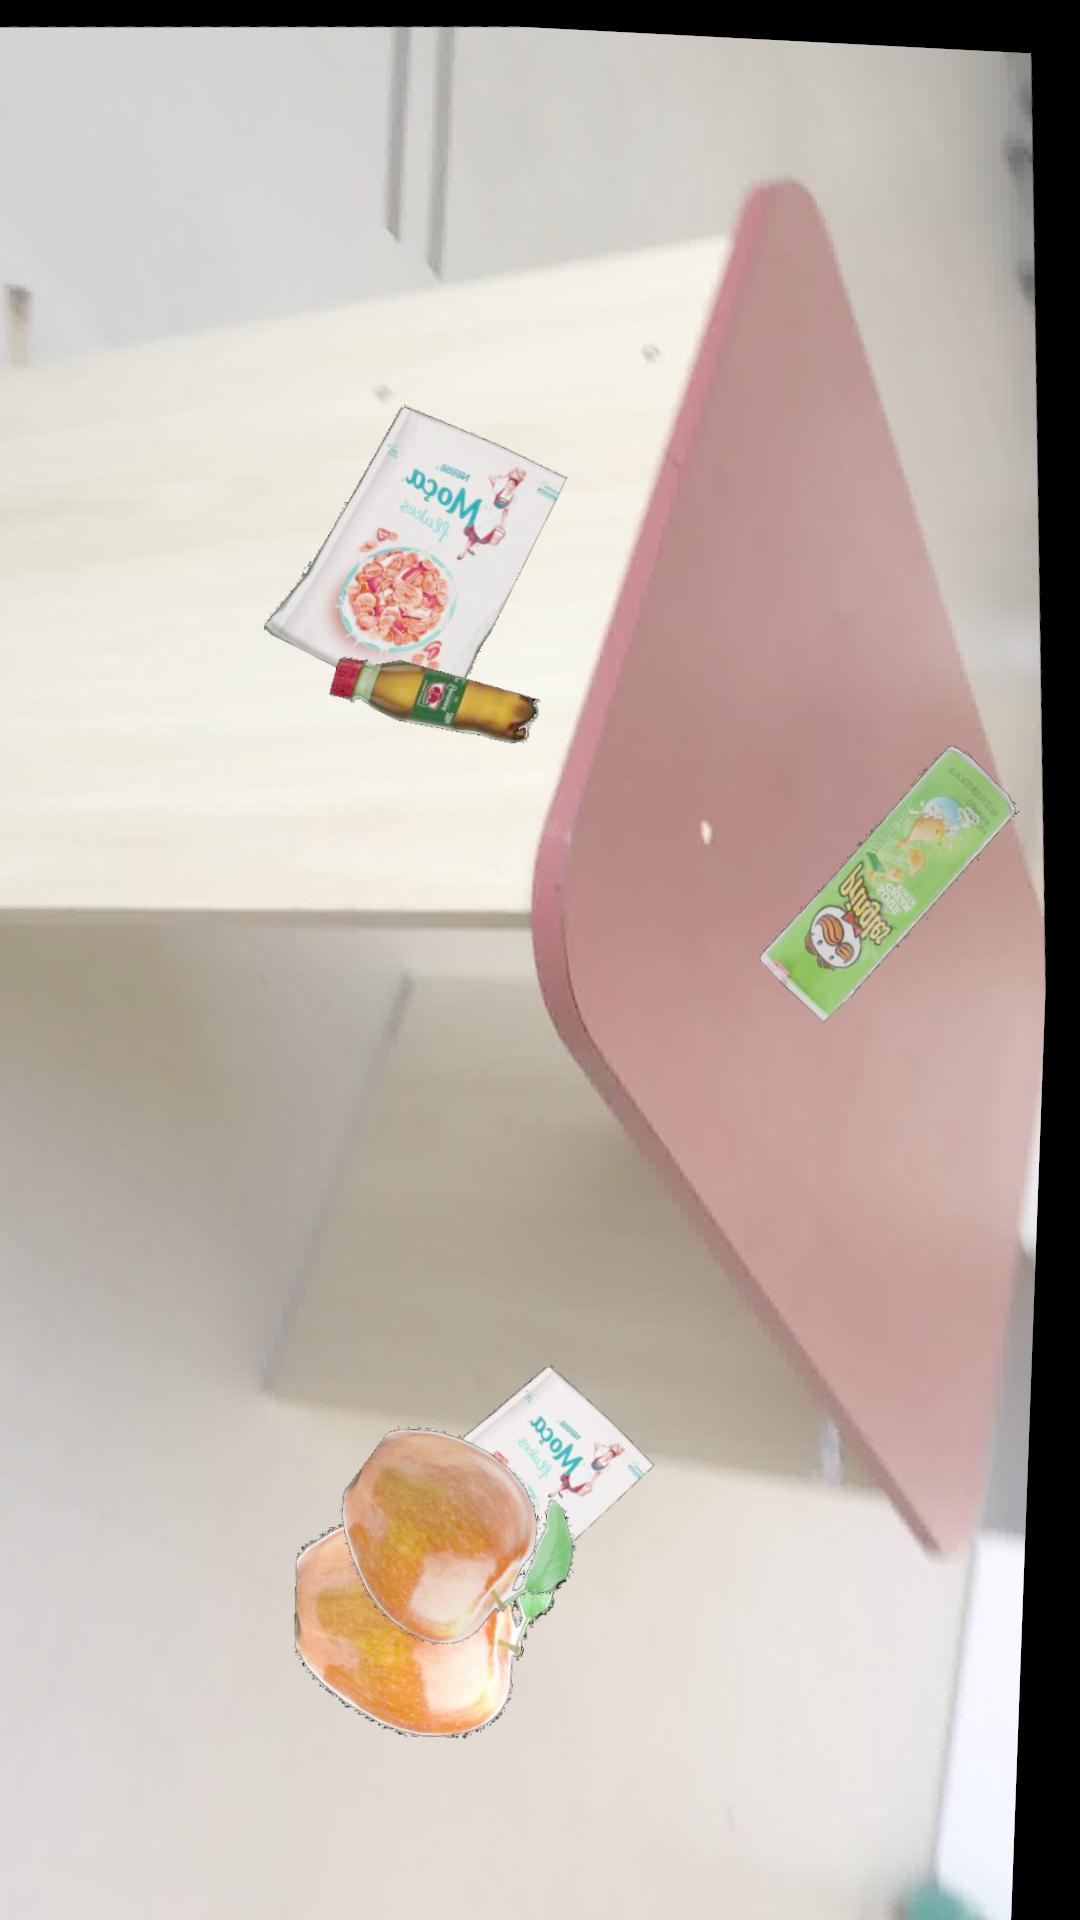apple: (305, 1523, 571, 1734), (352, 1425, 585, 1640)
corn flakes: (268, 404, 568, 674), (471, 1361, 663, 1584)
guarana: (332, 654, 543, 738)
pringles: (765, 736, 1022, 1014)
